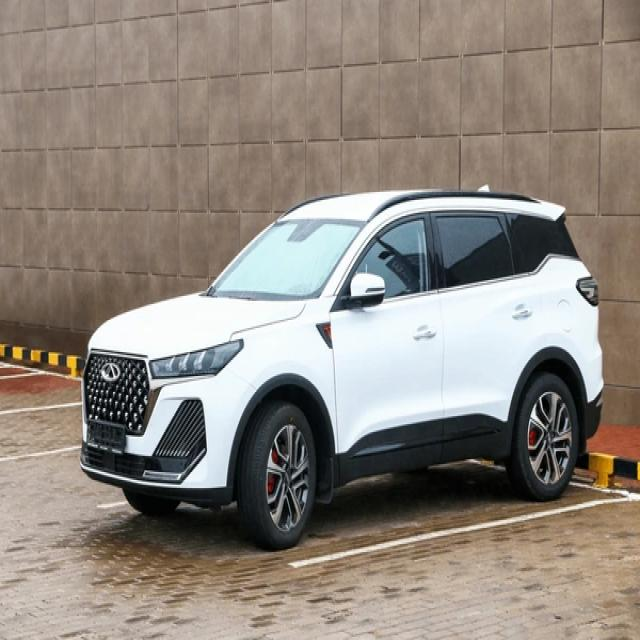cherry: (90, 358, 127, 385)
